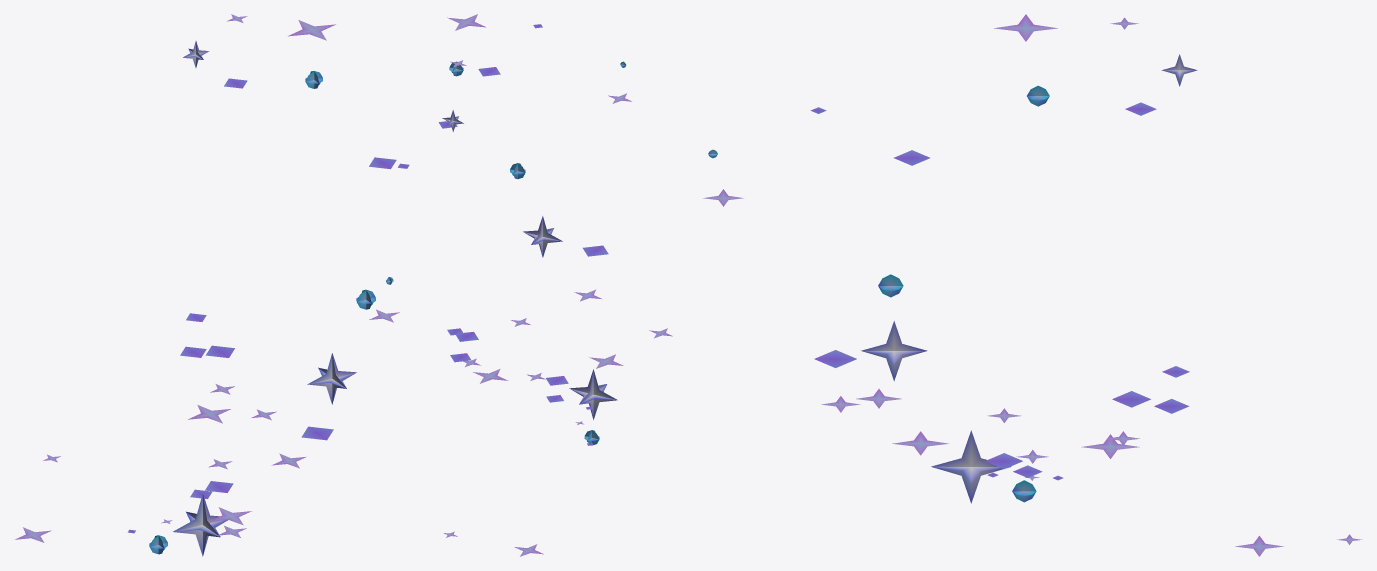
Rendered from space-stars-star-cluster_v23.fbx.
3 views of the same model, side by side, from view 1: azimuth 30°, elevation 25°; view 2: azimuth 150°, elevation 25°; view 3: azimuth 270°, elevation 25° (orthographic). The views are drawn at different scales.
Visible parts, largest first — view 1: Star Cluster_v23; view 2: Star Cluster_v23; view 3: Star Cluster_v23.
Boxes of the visible parts, x1,y1,x2,y2 form: Star Cluster_v23: [15, 14, 409, 556]; Star Cluster_v23: [438, 14, 672, 556]; Star Cluster_v23: [703, 14, 1362, 556].
Size of the model in its own units: 0.2269 by 0.5 by 0.4839.
